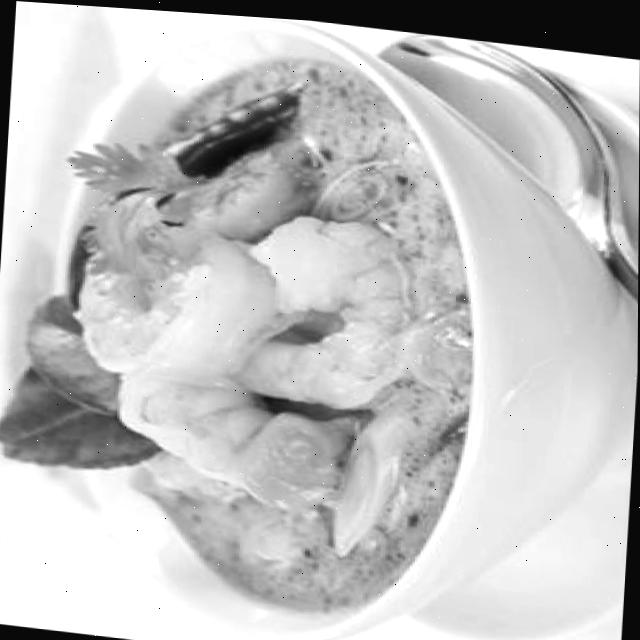汤锅炖物: (34, 2, 481, 611)
